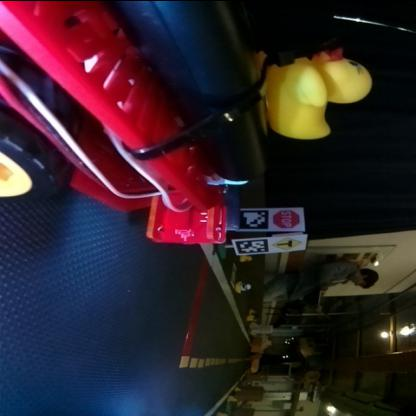Duckie: (269, 48, 371, 134), (235, 280, 252, 291), (240, 255, 253, 260)
Intersection sign: (274, 237, 304, 249)
QR code: (240, 208, 268, 228), (237, 237, 267, 253)
Stop sign: (274, 207, 302, 228)
